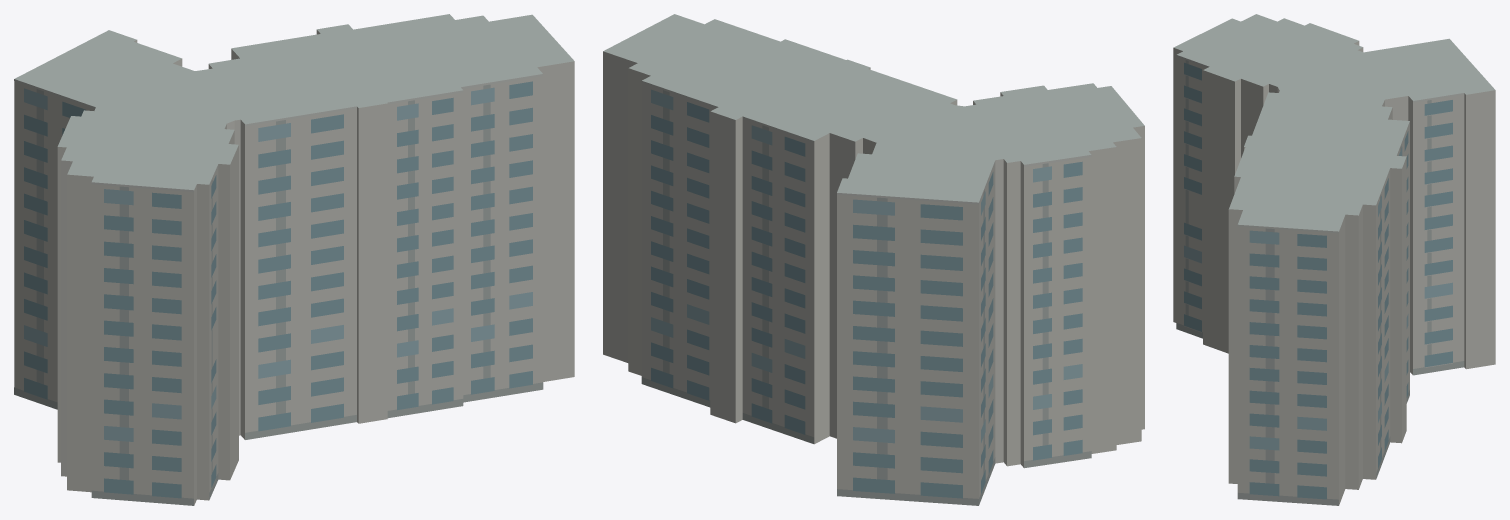
File: residential-ef08ab6e-883d-4375-ad7d-a8a2e1a70b05.glb
3 renders of one model, left to right at view 1: azimuth 30°, elevation 25°; view 2: azimuth 150°, elevation 25°; view 3: azimuth 270°, elevation 25°, orthographic. The views are drawn at different scales.
Parts seen in each view (by area): view 1: residential-ef08ab6e-883d-4375-ad7d-a8a2e1a70b05.tmp; view 2: residential-ef08ab6e-883d-4375-ad7d-a8a2e1a70b05.tmp; view 3: residential-ef08ab6e-883d-4375-ad7d-a8a2e1a70b05.tmp.
Boxes of the visible parts, x1,y1,x2,y2 form: residential-ef08ab6e-883d-4375-ad7d-a8a2e1a70b05.tmp: (14, 14, 574, 505); residential-ef08ab6e-883d-4375-ad7d-a8a2e1a70b05.tmp: (603, 14, 1144, 505); residential-ef08ab6e-883d-4375-ad7d-a8a2e1a70b05.tmp: (1173, 14, 1495, 505).
Size of the model in its own units: 62.92 by 37 by 39.4.
